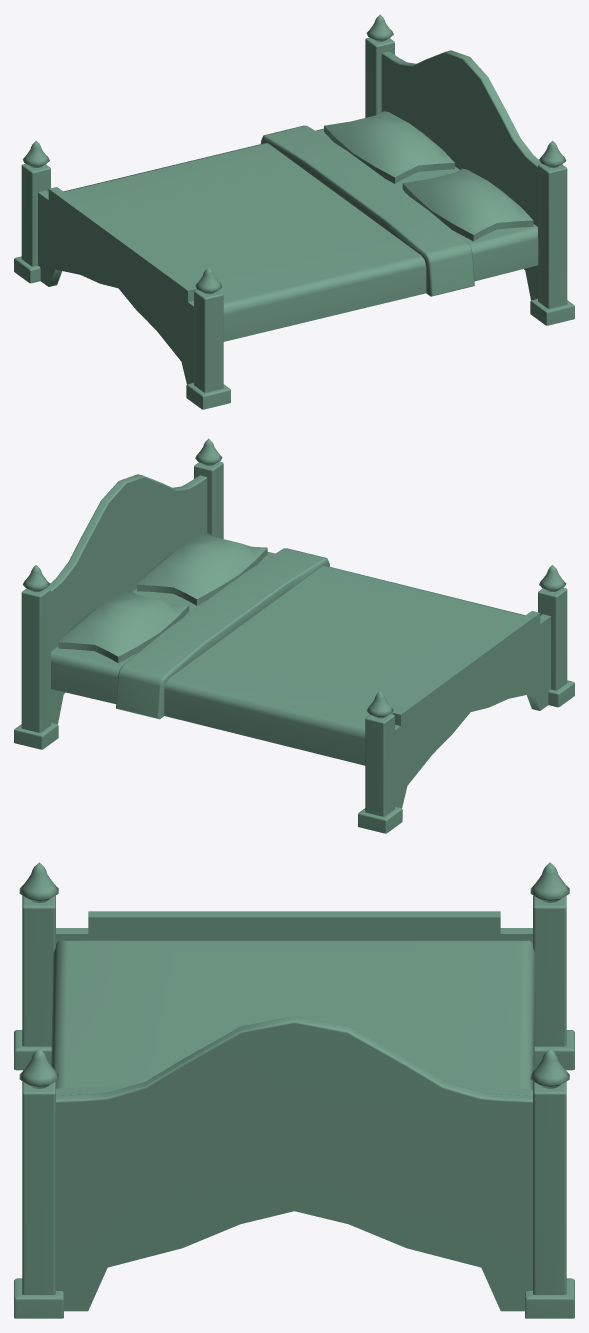
File: SM_Bed.fbx
3 views of the same model, one above another, from view 1: azimuth 30°, elevation 25°; view 2: azimuth 150°, elevation 25°; view 3: azimuth 270°, elevation 25° (orthographic). The views are drawn at different scales.
Visible parts, largest first — view 1: SM_Bed; view 2: SM_Bed; view 3: SM_Bed.
Boxes of the visible parts, x1,y1,x2,y2 form: SM_Bed: (14,14,574,409); SM_Bed: (14,438,574,833); SM_Bed: (14,862,574,1318).
Bounding box in the file's own units: 289 × 145 × 254.
